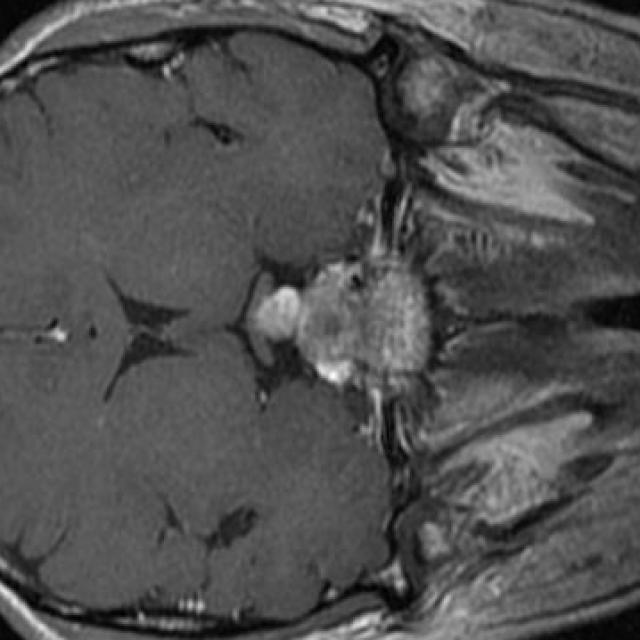pituitary: (257, 262, 365, 389)
